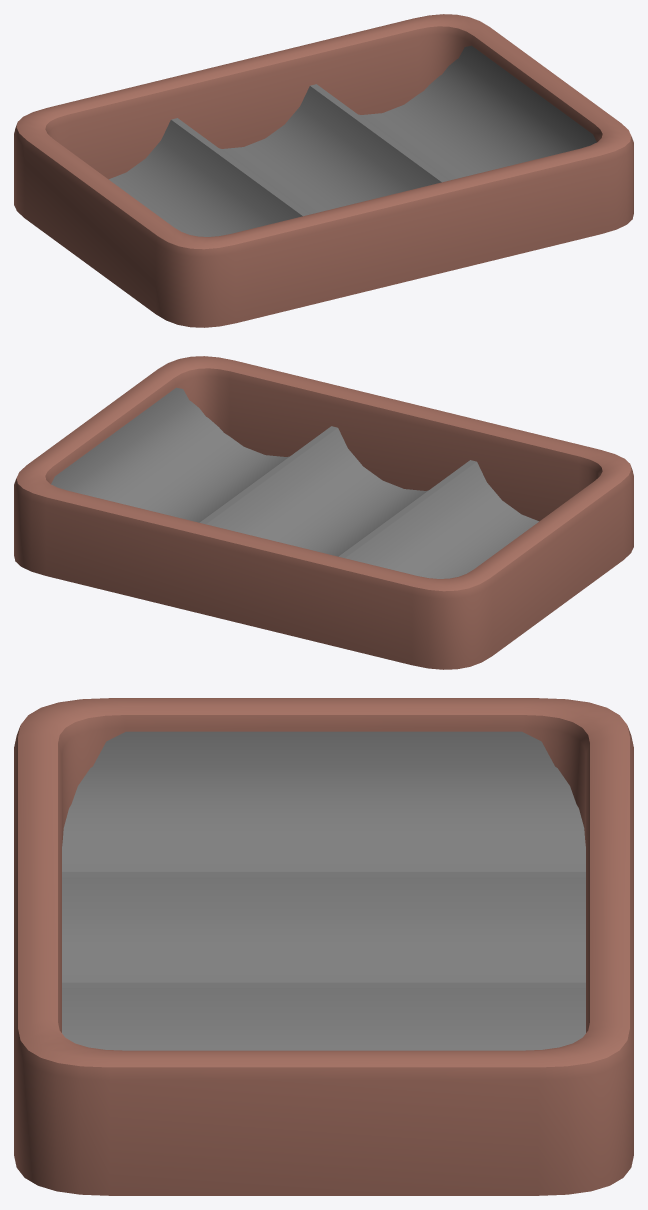
File: CanBox.fbx
3 views of the same model, one above another, from view 1: azimuth 30°, elevation 25°; view 2: azimuth 150°, elevation 25°; view 3: azimuth 270°, elevation 25° (orthographic). The views are drawn at different scales.
Parts seen in each view (by area): view 1: CanBox; view 2: CanBox; view 3: CanBox.
Boxes of the visible parts, bbox=[...] form: CanBox: bbox=[14, 14, 633, 327]; CanBox: bbox=[14, 356, 633, 669]; CanBox: bbox=[14, 698, 633, 1195].
Size of the model in its own units: 276 by 45 by 194.
